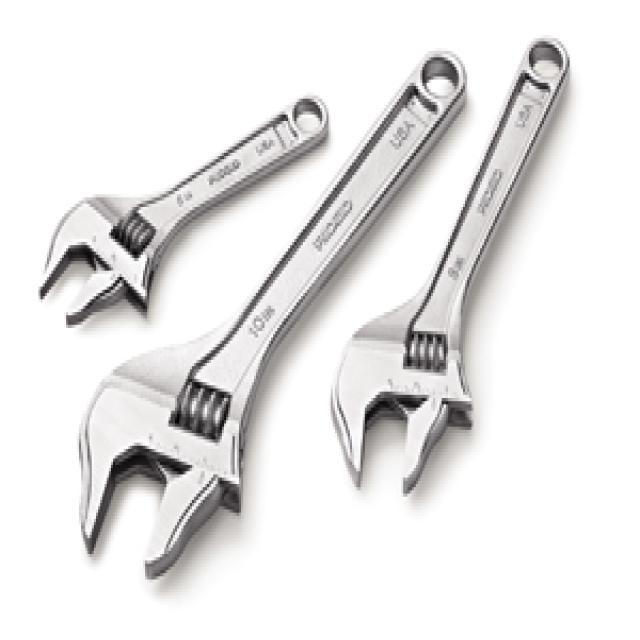wrench: (12, 60, 362, 334)
